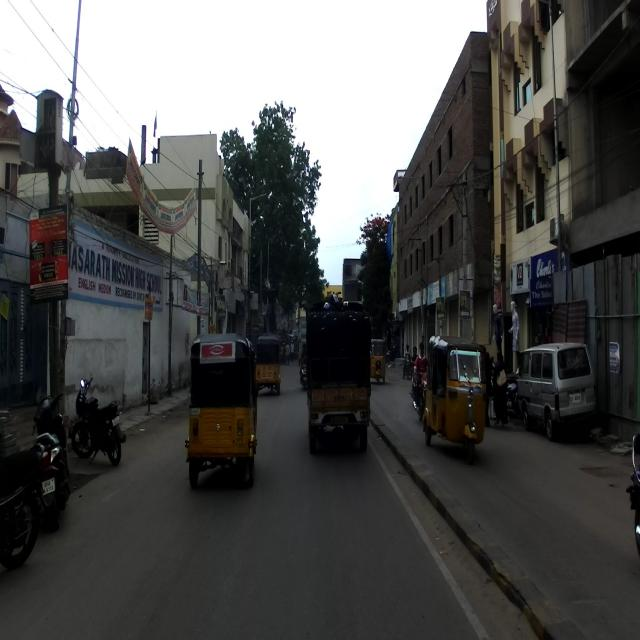Car_Maruti-Suzuki: (516, 341, 598, 440)
autorickshaw: (184, 332, 258, 488), (422, 334, 490, 466)
motorcycle_Honda: (68, 373, 127, 467)
scooter: (27, 392, 71, 529)
truck: (305, 291, 371, 457)
